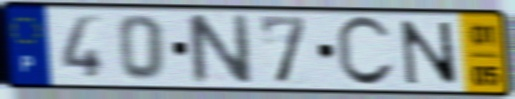0: (113, 12, 170, 84)
4: (58, 12, 109, 82)
7: (257, 13, 310, 87)
C: (333, 14, 398, 90)
N: (183, 12, 256, 87), (397, 18, 463, 87)
